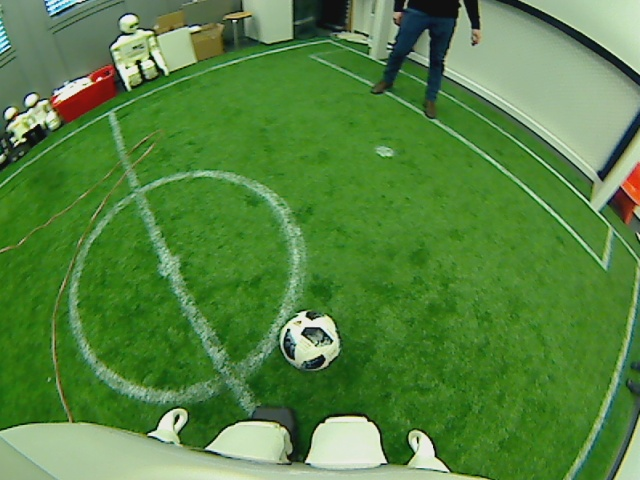ball: (277, 308, 342, 371)
